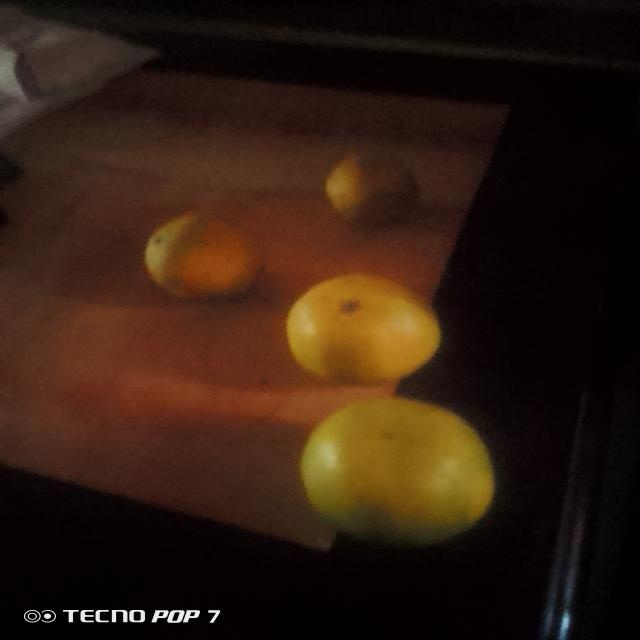agrume: (298, 394, 505, 545), (290, 273, 439, 375), (144, 208, 256, 308), (321, 147, 436, 239)
